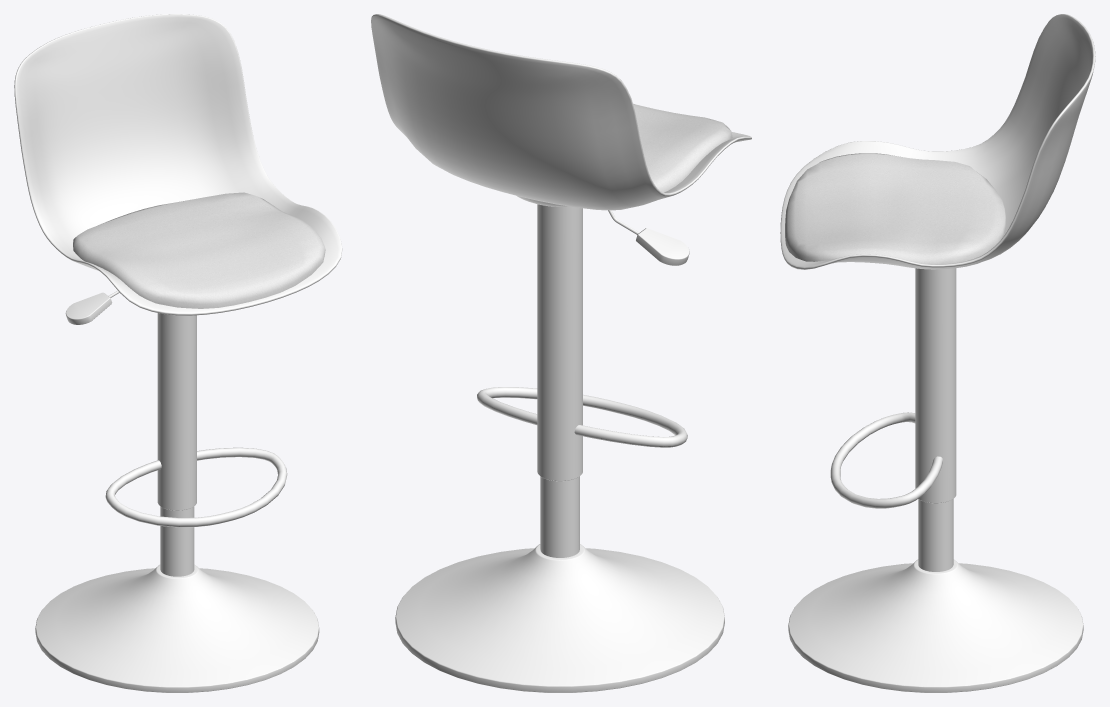
The model's file is chair(reception).fbx.
The picture shows the model from 3 angles, left to right: view 1: azimuth 30°, elevation 25°; view 2: azimuth 150°, elevation 25°; view 3: azimuth 270°, elevation 25°; orthographic projection. The views are drawn at different scales.
Parts seen in each view (by area): view 1: chair; view 2: chair; view 3: chair.
Boxes of the visible parts, x1=… form: chair: x1=14, y1=14, x2=342, y2=692; chair: x1=371, y1=14, x2=751, y2=692; chair: x1=780, y1=14, x2=1095, y2=692.
Bounding box in the file's own units: 38.52 × 41.22 × 83.1.
Materials: 1 (1 with a texture image).
